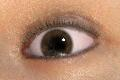eye: (42, 30, 71, 56)
